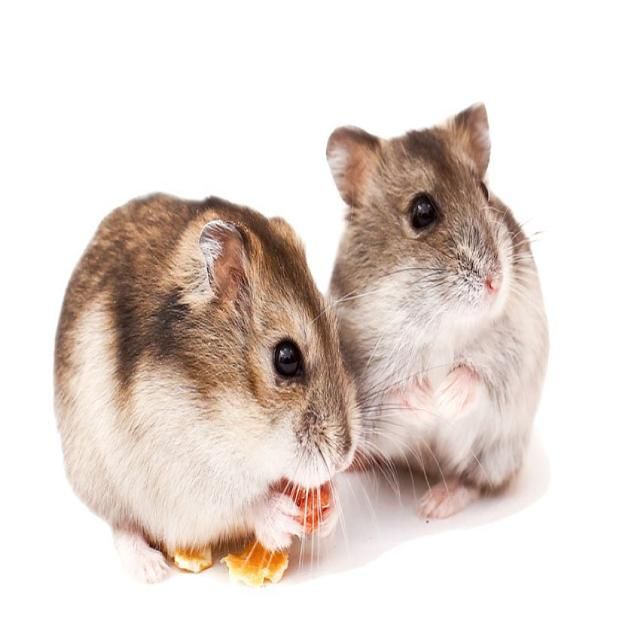hamster: (60, 151, 329, 585), (299, 89, 578, 489)
